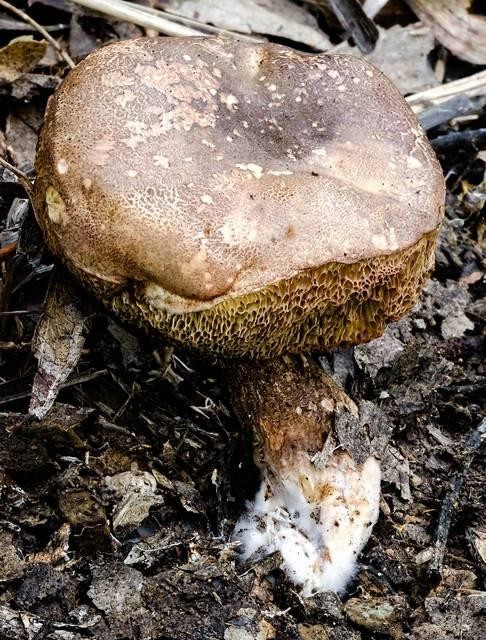poisonous_mushroom: (6, 33, 447, 598)
